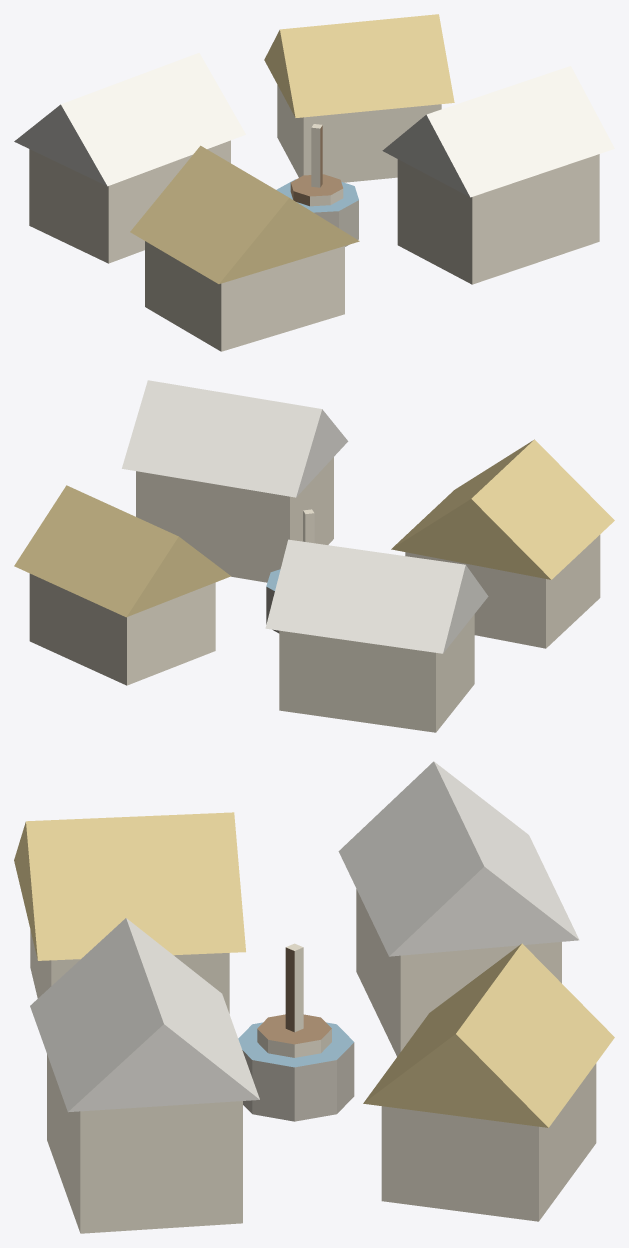
The model's file is village.glb.
3 views of the same model, one above another, from view 1: azimuth 30°, elevation 25°; view 2: azimuth 150°, elevation 25°; view 3: azimuth 270°, elevation 25° (orthographic). The views are drawn at different scales.
Visible parts, largest first — view 1: village; view 2: village; view 3: village.
Boxes of the visible parts, box(x1,y1,x2,y2) form: village: box(14, 14, 614, 351); village: box(14, 380, 614, 732); village: box(14, 761, 614, 1233).
Size of the model in its own units: 0.92 by 0.311 by 0.8038.
